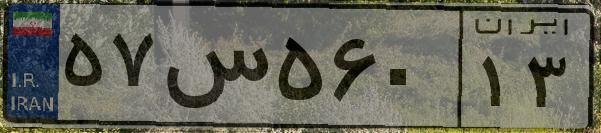0: (385, 28, 445, 110)
1: (475, 38, 525, 113)
3: (525, 38, 570, 115)
5: (270, 28, 330, 110), (57, 26, 110, 100)
6: (330, 28, 385, 110)
7: (110, 28, 158, 98)
س: (158, 20, 270, 120)
